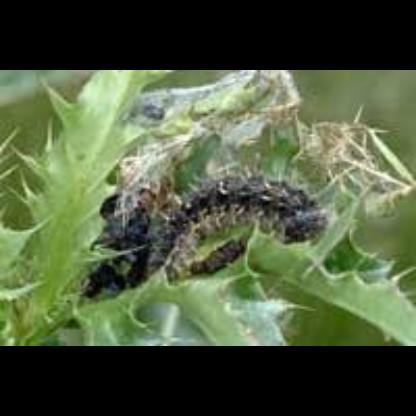oruga: (102, 168, 359, 274)
